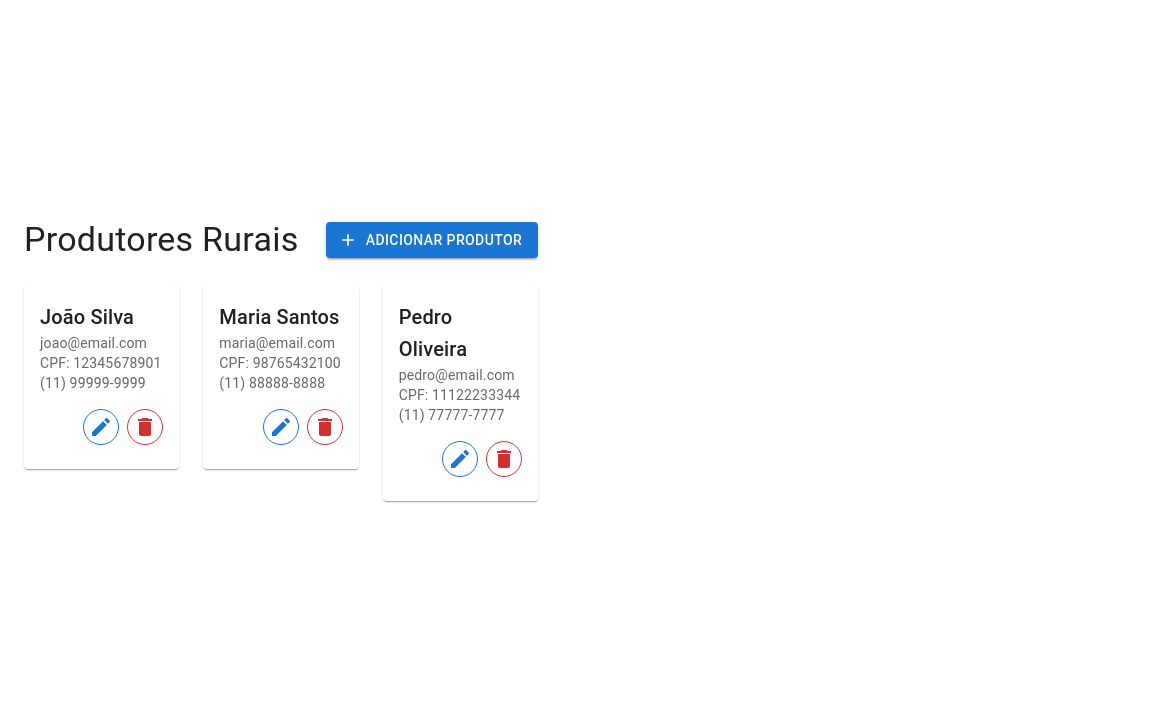
Test: ProducerPage › should handle producer deletion
This screenshot has width=1152, height=720.
Expected: the text "João Silva" is shown, [40,305,134,329]
Click the 1st button with test id "delete-producer": [145, 427] box [127,409,163,445]
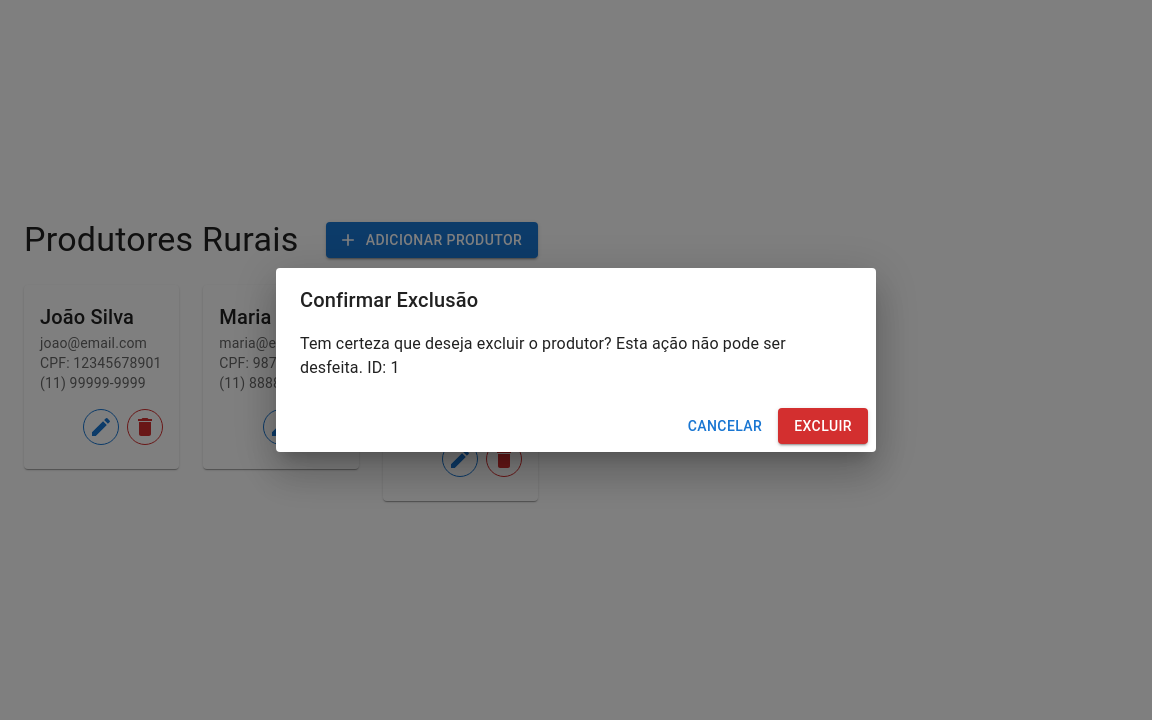
Result: the text "Tem certeza que deseja excluir" is shown at [300,334,786,377]
